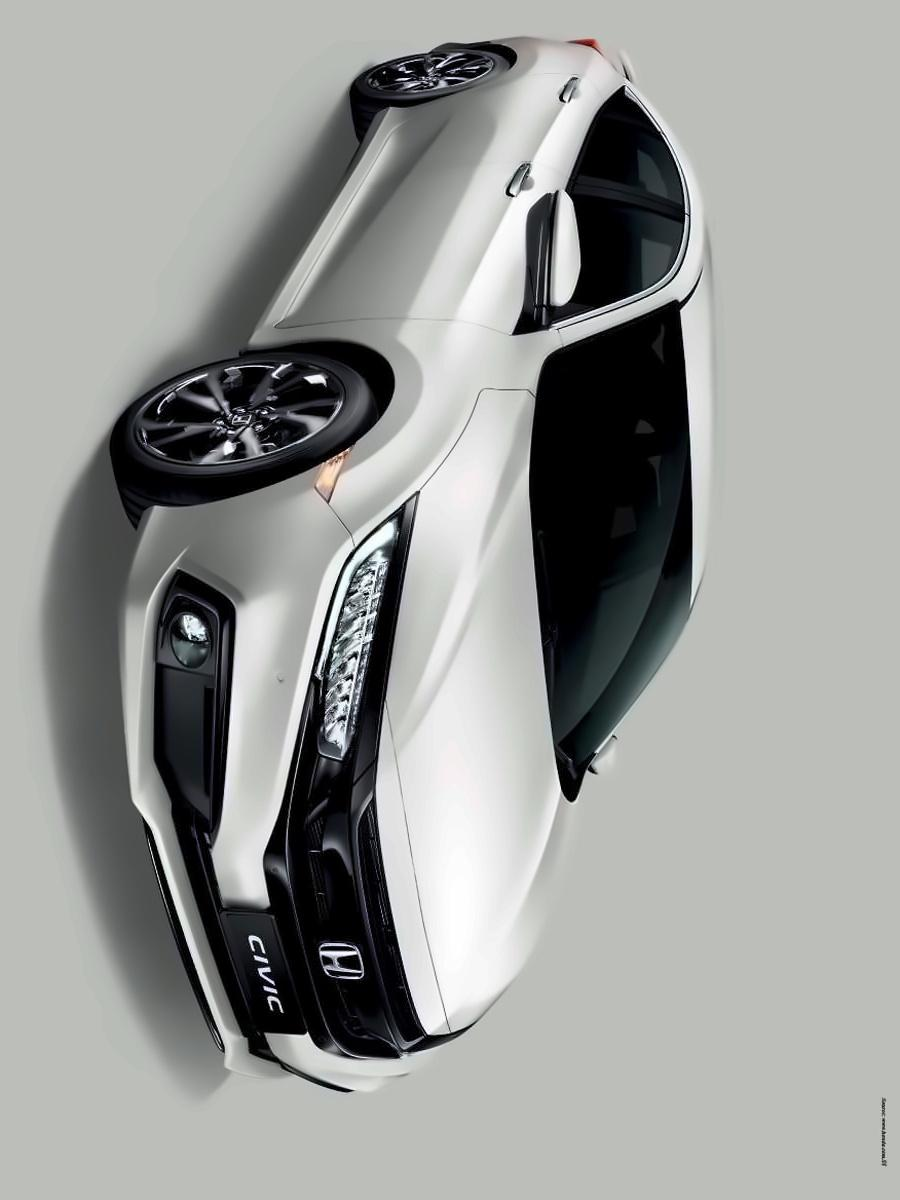Car hood: (376, 378, 571, 1056)
Driver-s door - -F-R-: (236, 160, 720, 342)
Fender - -F-R-: (248, 312, 564, 543)
Front bumper: (114, 468, 412, 1102)
Headlight - -R-: (299, 494, 418, 784)
Passenger-s door - -R-R-: (300, 66, 718, 207)
Side bumper - -R-: (219, 96, 412, 358)
Side mirror - -R-: (506, 186, 581, 343)
